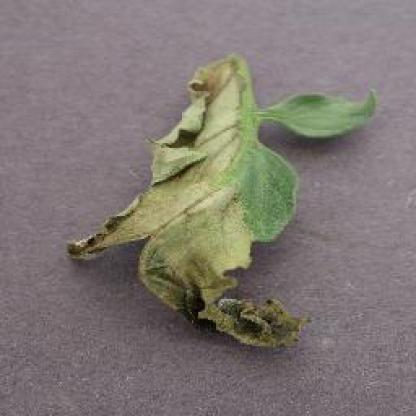bad leaf: (115, 53, 305, 200), (140, 144, 308, 264), (155, 91, 376, 162), (69, 175, 200, 247), (177, 276, 294, 352), (135, 194, 206, 319)
